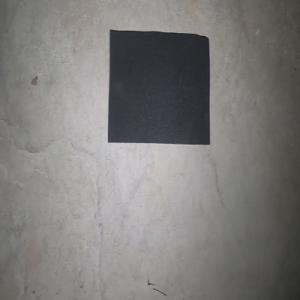PaintChip: (107, 29, 210, 145)
